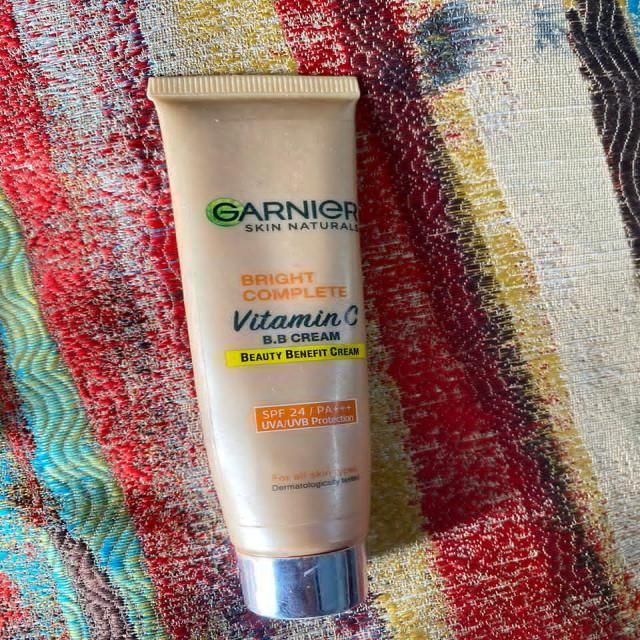bb cream: (169, 54, 417, 627)
